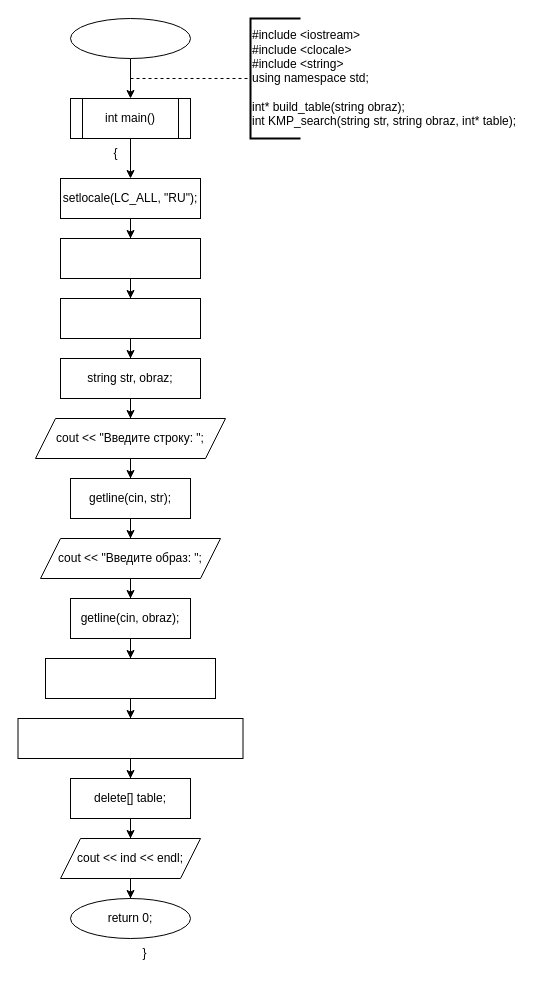
Some shapes in this 533 by 985 pixel diagram are drawn without their labels. The shapes that lost their labels are listed below. From the top down, each one's centre as x and y in pixels, then its label:
[130,38]: Начало
[130,258]: system("chcp 1251");
[130,318]: system("cls");
[130,678]: int* table = build_table(obraz);
[130,738]: int ind = KMP_search(str, obraz, table);
